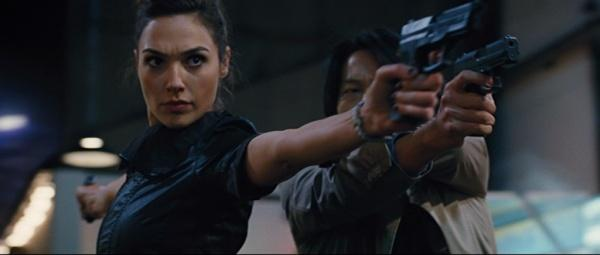Gun: (398, 0, 488, 81), (449, 35, 522, 97)
